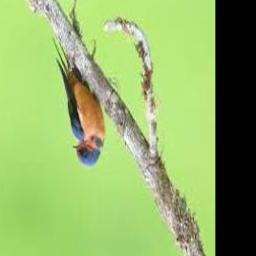Swallow: (53, 34, 106, 167)
